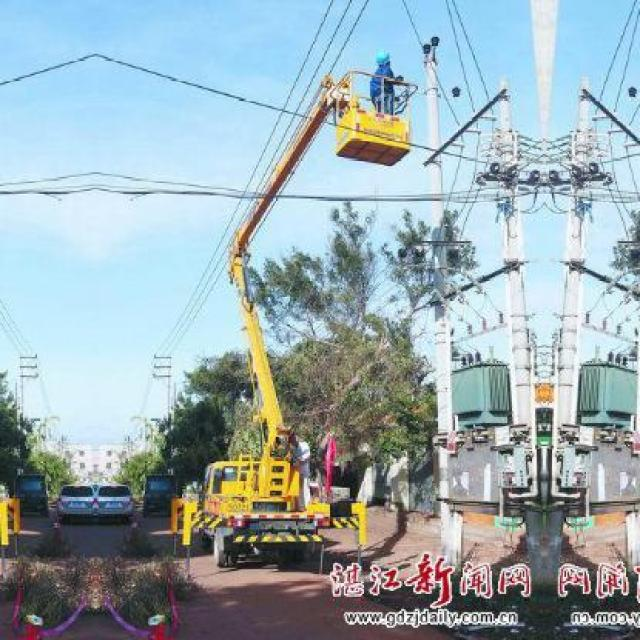helmet: (370, 46, 390, 66)
